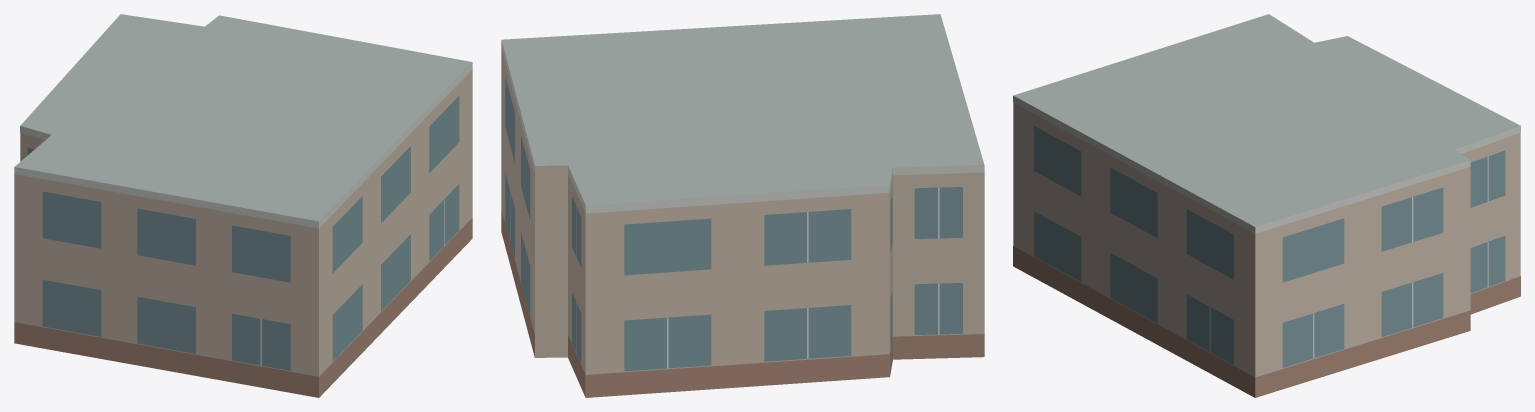
File: survey-upis-32839111.glb
The picture shows the model from 3 angles, left to right: view 1: azimuth 30°, elevation 25°; view 2: azimuth 150°, elevation 25°; view 3: azimuth 270°, elevation 25°; orthographic projection. The views are drawn at different scales.
Visible parts, largest first — view 1: survey-upis-32839111.tmp; view 2: survey-upis-32839111.tmp; view 3: survey-upis-32839111.tmp.
Part boxes in pixels (x1,y1,x2,y2): survey-upis-32839111.tmp: (14,14,472,397); survey-upis-32839111.tmp: (501,14,984,397); survey-upis-32839111.tmp: (1013,14,1520,397).
Size of the model in its own units: 16.33 by 6.1 by 16.44.
